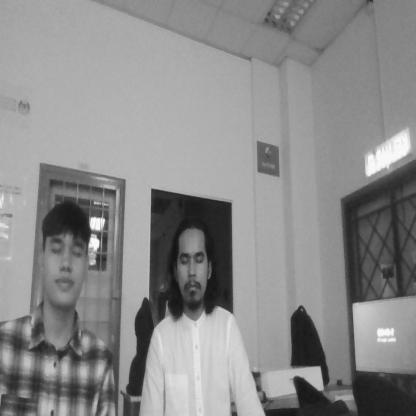Closed-Eyes: (45, 231, 85, 262), (178, 246, 208, 270)
